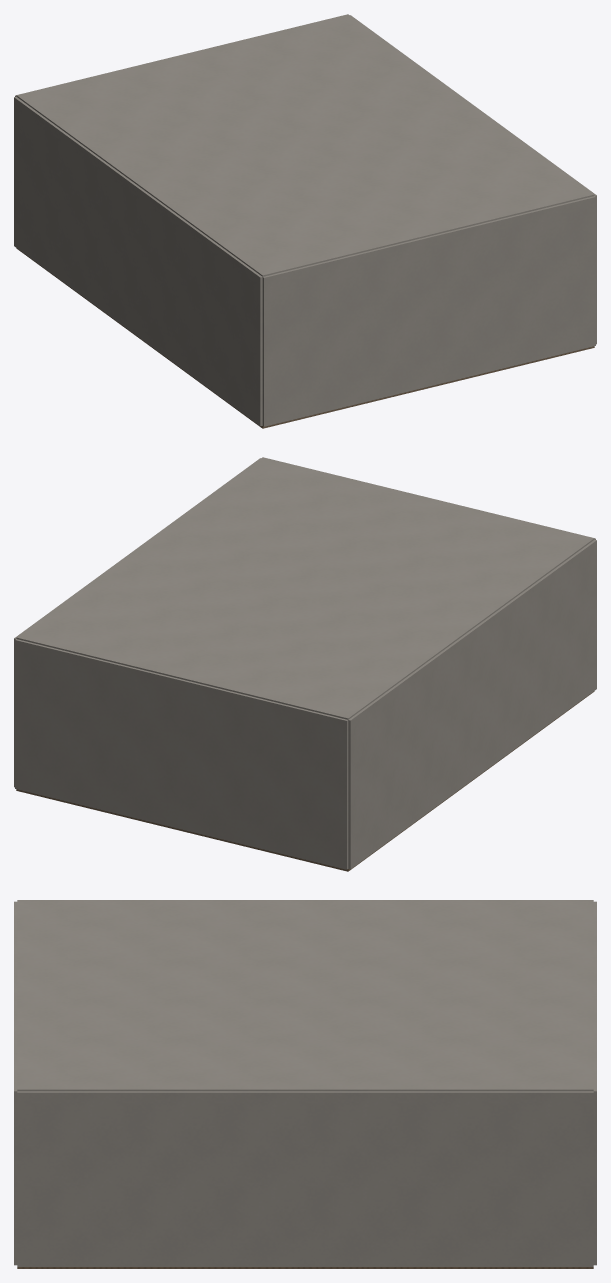
File: courtroom.glb
The picture shows the model from 3 angles, top to bottom: view 1: azimuth 30°, elevation 25°; view 2: azimuth 150°, elevation 25°; view 3: azimuth 270°, elevation 25°; orthographic projection. The views are drawn at different scales.
Visible parts, largest first — view 1: ceiling, wall_front, wall_left, floor; view 2: ceiling, wall_back, wall_left, floor; view 3: ceiling, wall_right, wall_back, wall_front, floor.
Part boxes in pixels (x1,y1,x2,y2): ceiling: [16, 14, 594, 276]; wall_front: [262, 196, 595, 426]; wall_left: [14, 96, 262, 426]; floor: [16, 248, 594, 428]; ceiling: [16, 457, 594, 719]; wall_back: [15, 639, 348, 869]; wall_left: [348, 539, 596, 869]; floor: [16, 691, 594, 871]; ceiling: [17, 900, 593, 1091]; wall_right: [17, 1091, 593, 1266]; wall_back: [593, 901, 596, 1265]; wall_front: [14, 901, 17, 1265]; floor: [17, 1267, 593, 1268].
Size of the model in its own units: 14.2 by 6.18 by 18.2.
6 materials, 5 textured.
